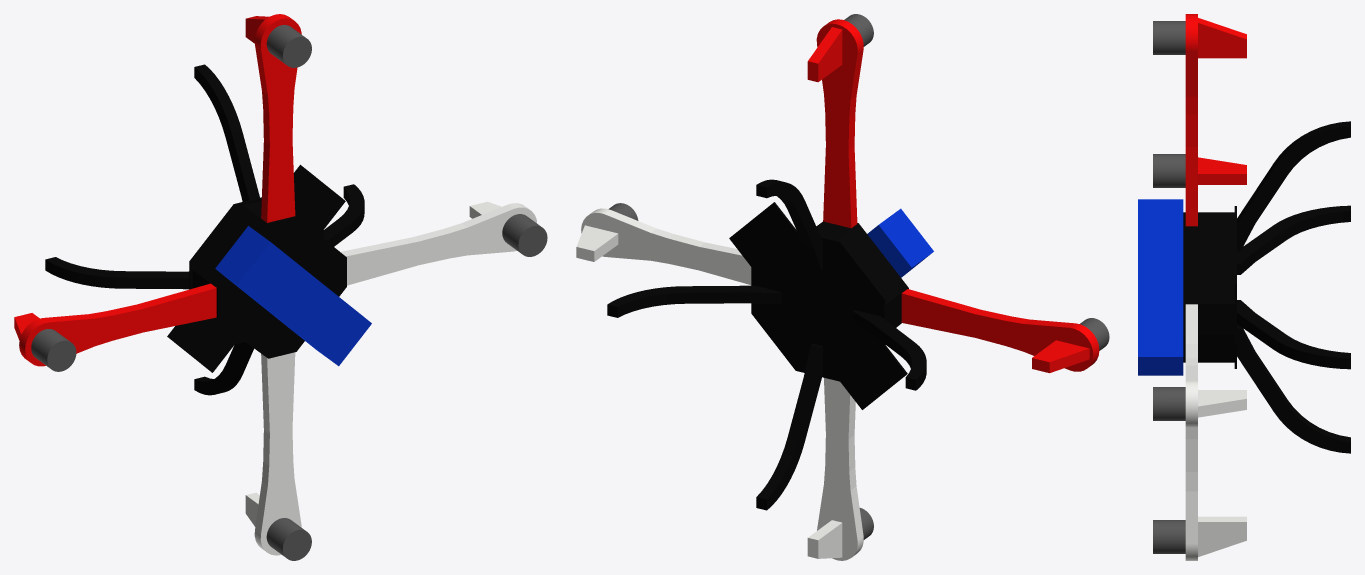
Rendered from f450_quadcopter_lowpoly.obj.
The picture shows the model from 3 angles, left to right: view 1: azimuth 30°, elevation 25°; view 2: azimuth 150°, elevation 25°; view 3: azimuth 270°, elevation 25°; orthographic projection.
Parts seen in each view (by area): view 1: Battery, Top, Arm1, Arm3, Arm2, Arm4, Bottom, Leg1, Leg2, Body7, Leg3, Motor4 (+4 smaller); view 2: Bottom, Arm1, Arm2, Arm3, Arm4, Leg3, Leg4, Body7, Battery, Leg1, Leg2; view 3: Battery, Body7, Arm1, Arm3, Leg1, Leg3, Arm4, Leg4, Leg2, Arm2, Motor2, Motor3 (+4 smaller).
Part boxes in pixels (x1,y1,x2,y2): Battery: [215, 226, 371, 366]; Top: [216, 216, 346, 358]; Arm1: [245, 14, 301, 222]; Arm3: [245, 352, 301, 555]; Arm2: [14, 283, 216, 366]; Arm4: [340, 201, 537, 285]; Bottom: [167, 164, 345, 372]; Leg1: [194, 64, 259, 201]; Leg2: [45, 257, 189, 289]; Body7: [192, 201, 266, 355]; Leg3: [194, 342, 253, 395]; Motor4: [502, 214, 547, 256]; Bottom: [729, 202, 907, 409]; Arm1: [807, 19, 863, 228]; Arm2: [901, 289, 1099, 373]; Arm3: [807, 378, 863, 560]; Arm4: [576, 208, 751, 284]; Leg3: [756, 343, 822, 510]; Leg4: [607, 285, 781, 317]; Body7: [816, 221, 907, 327]; Battery: [867, 208, 933, 277]; Leg1: [756, 179, 822, 270]; Leg2: [852, 310, 926, 390]; Battery: [1138, 199, 1183, 375]; Body7: [1185, 212, 1234, 362]; Arm1: [1185, 14, 1246, 226]; Arm3: [1185, 427, 1246, 560]; Leg1: [1237, 121, 1350, 251]; Leg3: [1237, 324, 1350, 453]; Arm4: [1185, 304, 1246, 427]; Leg4: [1237, 300, 1350, 369]; Leg2: [1237, 205, 1350, 274]; Arm2: [1198, 157, 1246, 184]; Motor2: [1153, 154, 1185, 187]; Motor3: [1153, 520, 1185, 553].
Bounding box in the file's own units: 48.93 × 48.93 × 17.4.
